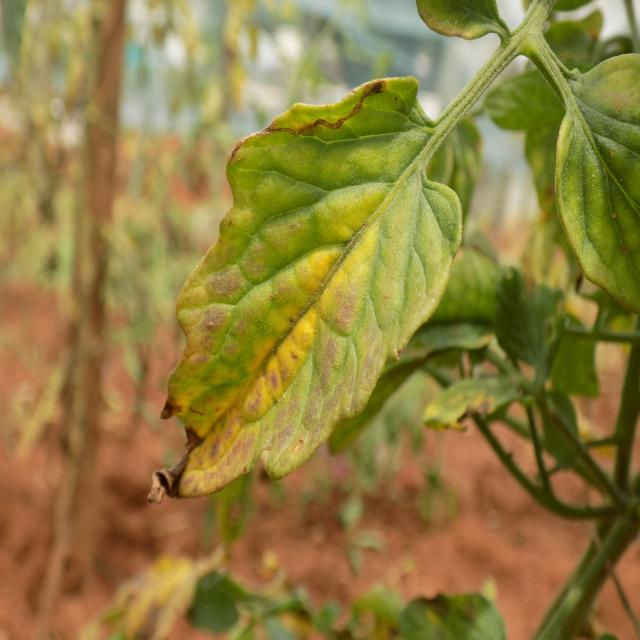tomato_early blight: (145, 68, 467, 507), (550, 48, 640, 294)
